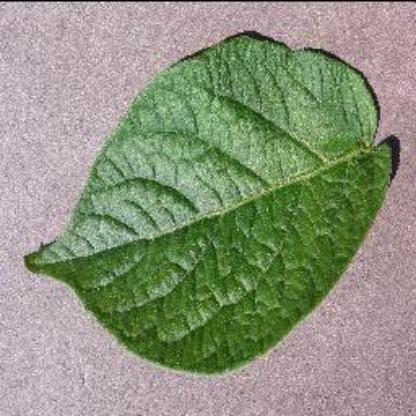Healthy-plant: (6, 0, 415, 392)
